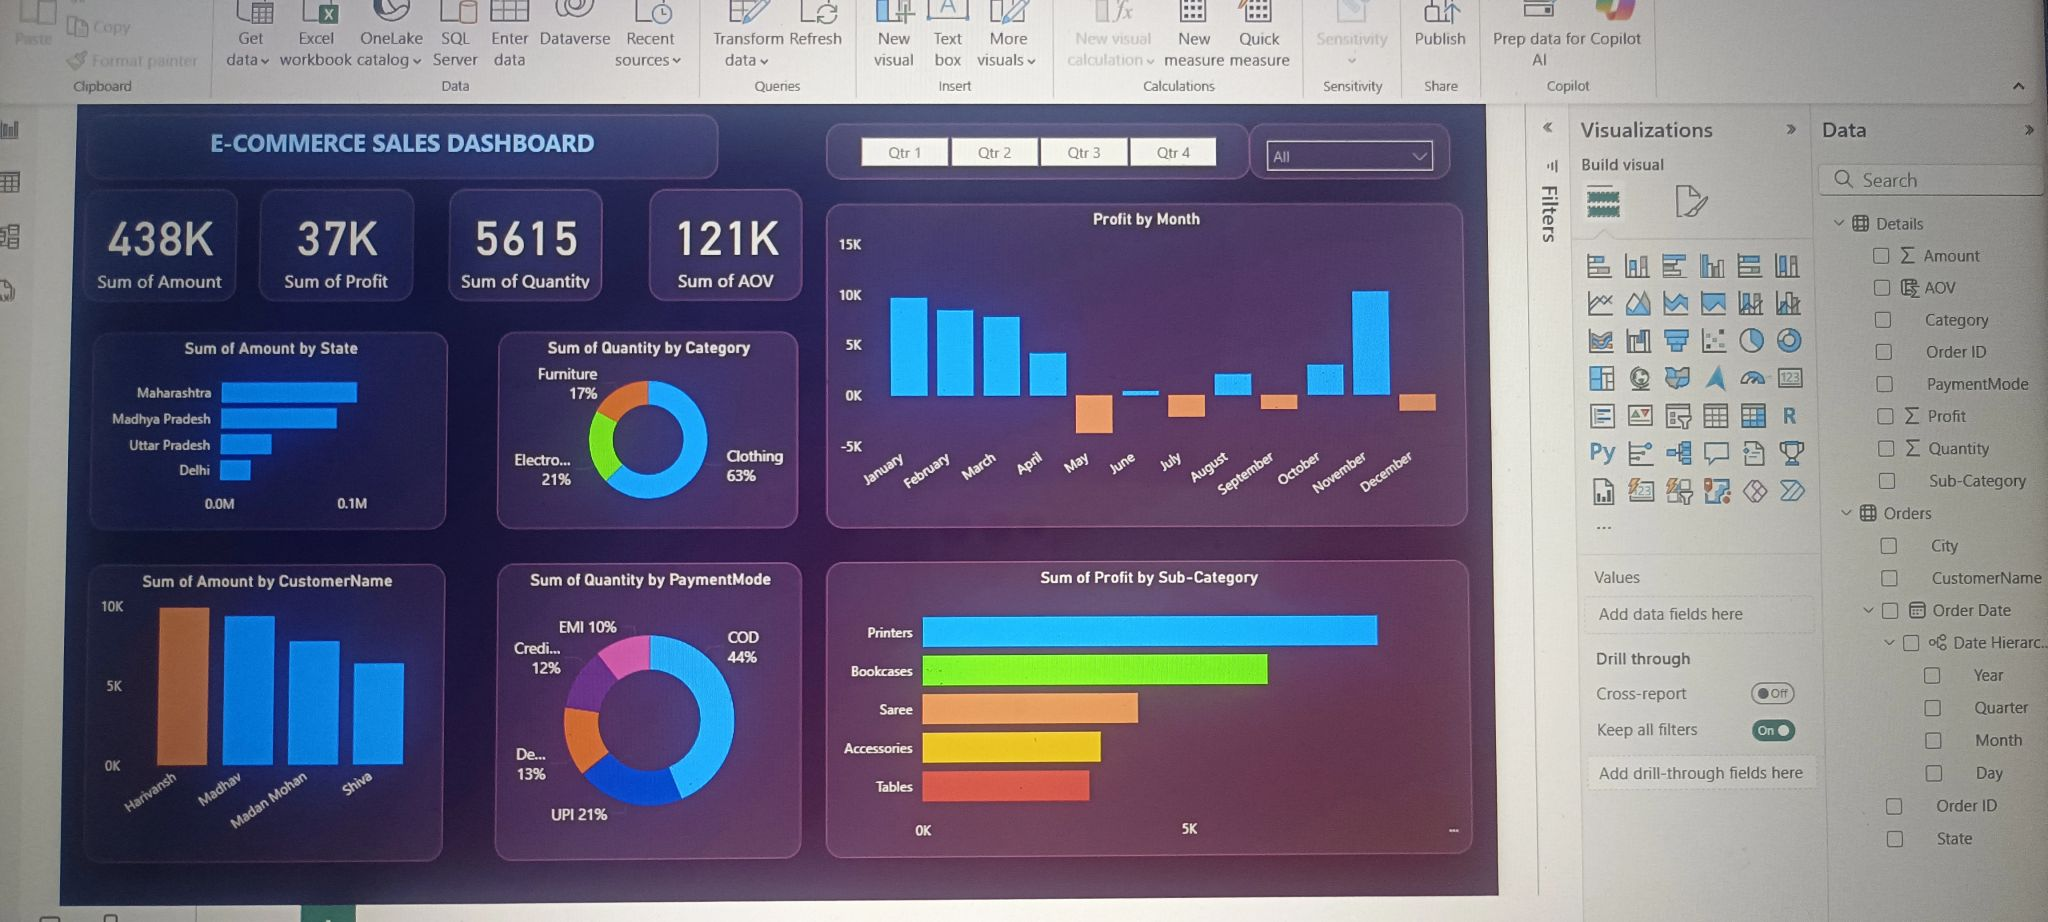

The dashboard page shown, as its layout file describes it:
{"tool":"powerbi","page":{"name":"Page 1","canvas":[1280,720],"ordinal":0},"visuals":[{"type":"textbox","box":[9.8,9.8,569.3,58.9],"z":0},{"type":"columnChart","title":"Profit by Month","fields":{"Category":["Orders.Order Date.Variation.Date Hierarchy.Month"],"Y":["Details.Profit"]},"box":[677.3,92,580.4,294.5],"z":1000},{"type":"barChart","fields":{"Category":["Details.Sub-Category"],"Y":["Details.Profit"]},"box":[677.3,417.2,580.4,263.8],"z":2000},{"type":"donutChart","fields":{"Category":["Details.Category"],"Y":["Details.Quantity"]},"box":[382.8,208.6,268.7,177.9],"z":3000},{"type":"donutChart","fields":{"Y":["Details.Quantity"],"Category":["Details.PaymentMode"]},"box":[384.1,417.2,271.2,263.8],"z":4000},{"type":"card","fields":{"Values":["Details.Amount"]},"box":[9.8,78.5,137.4,101.8],"z":5000},{"type":"card","fields":{"Values":["Details.Profit"]},"box":[168.1,78.5,137.4,101.8],"z":6000},{"type":"card","fields":{"Values":["Details.Quantity"]},"box":[337.4,78.5,137.4,101.8],"z":7000},{"type":"card","fields":{"Values":["Details.AOV"]},"box":[517.8,78.5,137.4,101.8],"z":8000},{"type":"barChart","fields":{"Category":["Orders.State"],"Y":["Details.Amount"]},"box":[20.9,208.6,316.6,177.9],"z":9000},{"type":"columnChart","fields":{"Category":["Orders.CustomerName"],"Y":["Details.Amount"]},"box":[20.9,417.2,316.6,263.8],"z":10000},{"type":"slicer","fields":{"Values":["Orders.Order Date.Variation.Date Hierarchy.Quarter"]},"box":[677.3,18.4,385.3,51.5],"z":11000},{"type":"slicer","fields":{"Values":["Orders.State"]},"box":[1062.6,18.4,184.1,51.5],"z":12000}]}

Visuals, with their boxes on the page's 1280x720 design canvas (x1, y1, x2, y2). These are canvas units, not pixel positions in the 2048x922 screenshot, which may show the page scaled, cropped or inside an application window:
textbox: region(10, 10, 579, 69)
"Profit by Month" columnChart: region(677, 92, 1258, 386)
barChart - Details.Sub-Category x Details.Profit: region(677, 417, 1258, 681)
donutChart - Details.Category x Details.Quantity: region(383, 209, 652, 386)
donutChart - Details.Quantity x Details.PaymentMode: region(384, 417, 655, 681)
card - Details.Amount: region(10, 78, 147, 180)
card - Details.Profit: region(168, 78, 306, 180)
card - Details.Quantity: region(337, 78, 475, 180)
card - Details.AOV: region(518, 78, 655, 180)
barChart - Orders.State x Details.Amount: region(21, 209, 338, 386)
columnChart - Orders.CustomerName x Details.Amount: region(21, 417, 338, 681)
slicer - Orders.Order Date.Variation.Date Hierarchy.Quarter: region(677, 18, 1063, 70)
slicer - Orders.State: region(1063, 18, 1247, 70)
